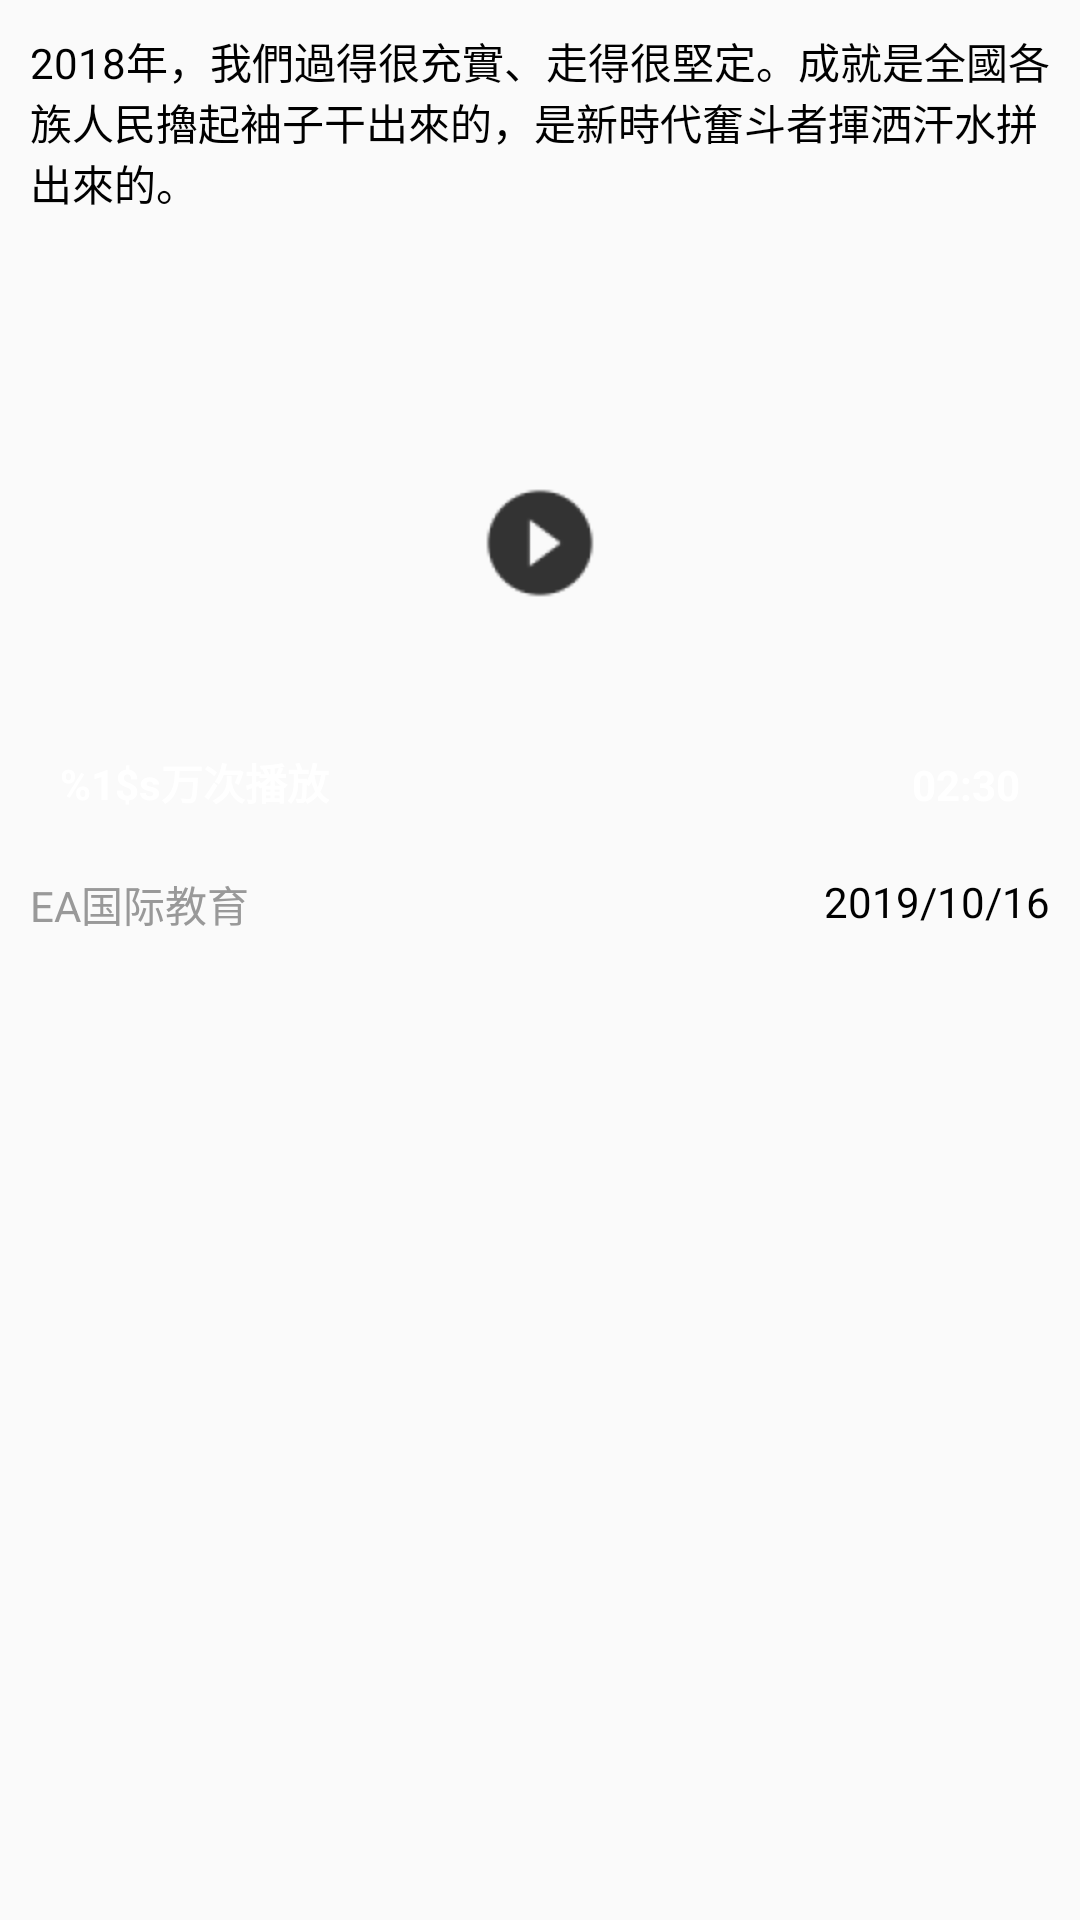

Icon click points for this 1080 × 1920 phone screenshot, format (x=x, y=y):
openclasss vedio start: (x=540, y=543)
